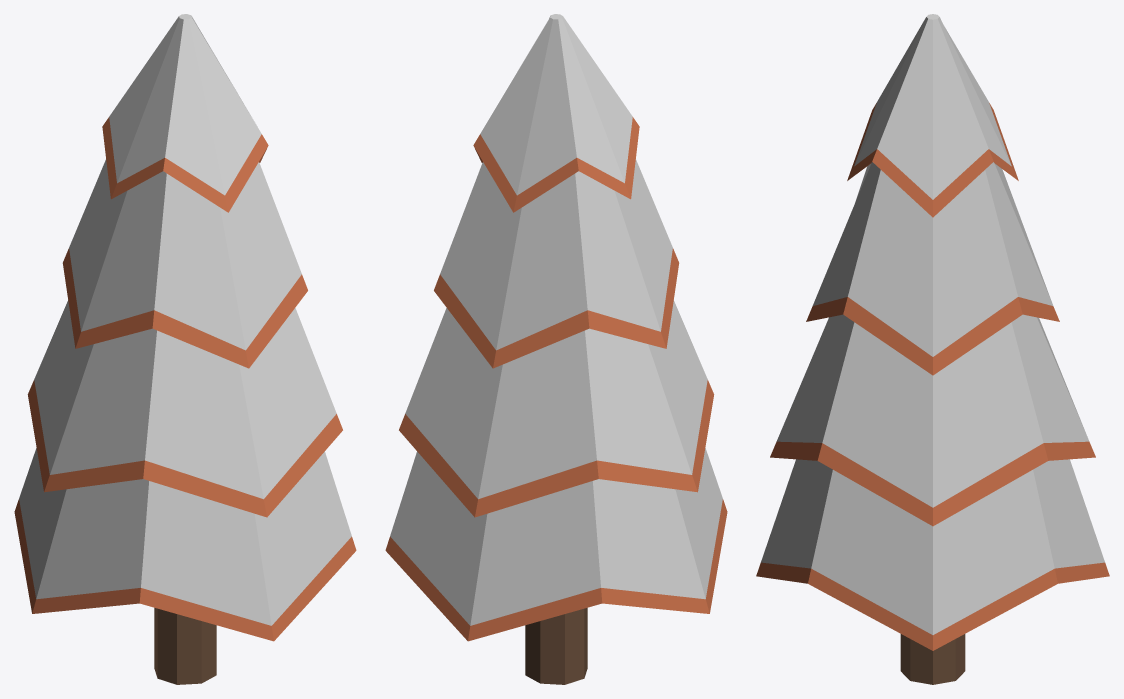
File: tree.glb
3 renders of one model, left to right at view 1: azimuth 30°, elevation 25°; view 2: azimuth 150°, elevation 25°; view 3: azimuth 270°, elevation 25°, orthographic.
Parts seen in each view (by area): view 1: SnowTree; view 2: SnowTree; view 3: SnowTree.
Part boxes in pixels (x1,y1,x2,y2): SnowTree: (14,14,356,684); SnowTree: (385,14,727,684); SnowTree: (756,14,1109,684).
Bounding box in the file's own units: 4.99 × 10.19 × 4.99.
